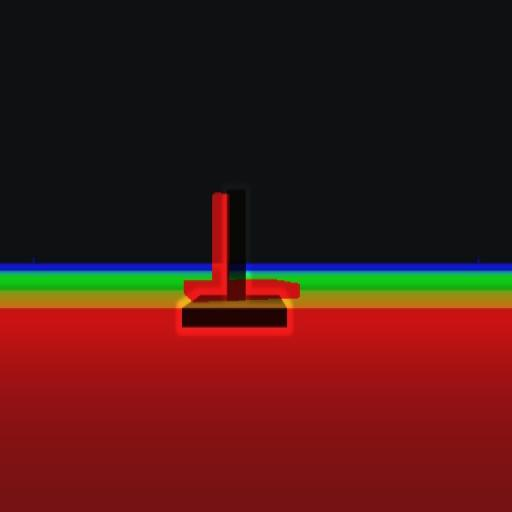platform: (181, 203, 289, 328)
